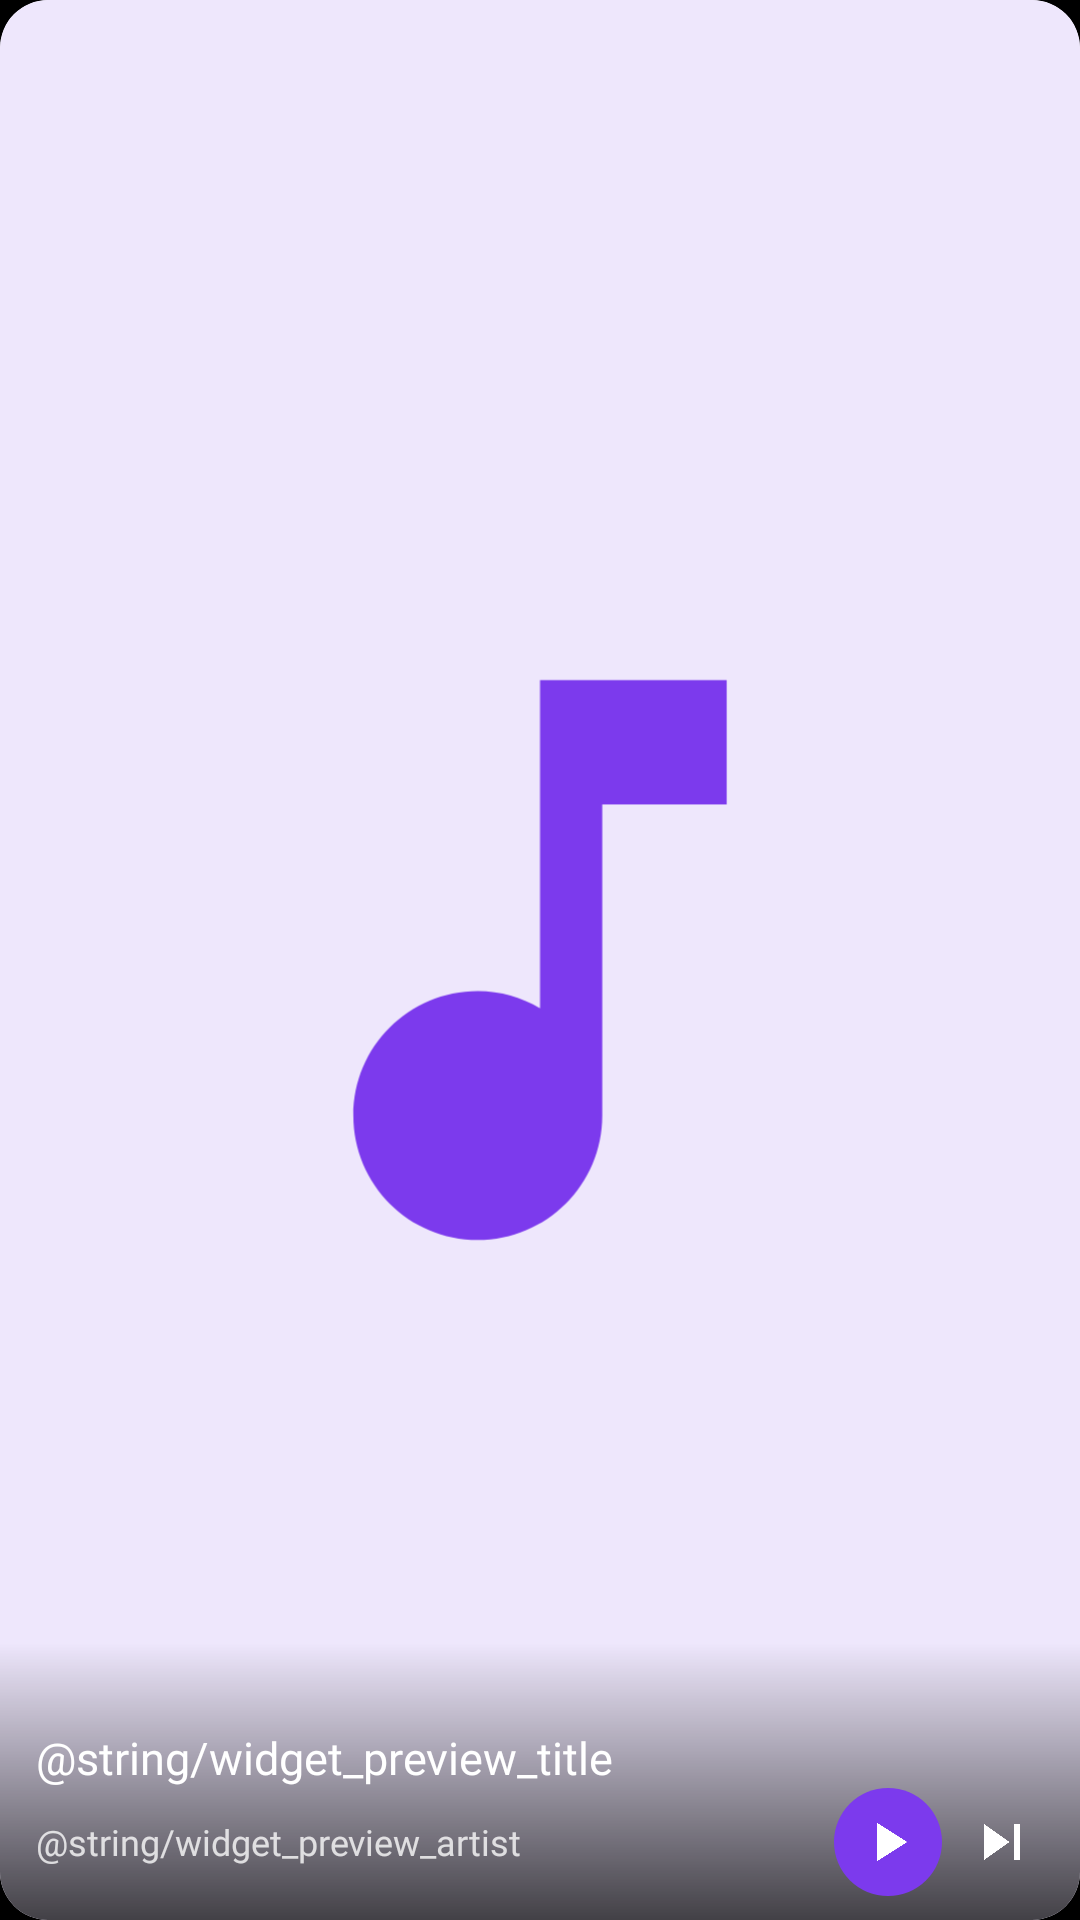

Screen size 1080*1920. Icon name, then its box in pixels as bbox=[x1, y1, x2, y2]:
widget play: bbox=[877, 1823, 907, 1861]
